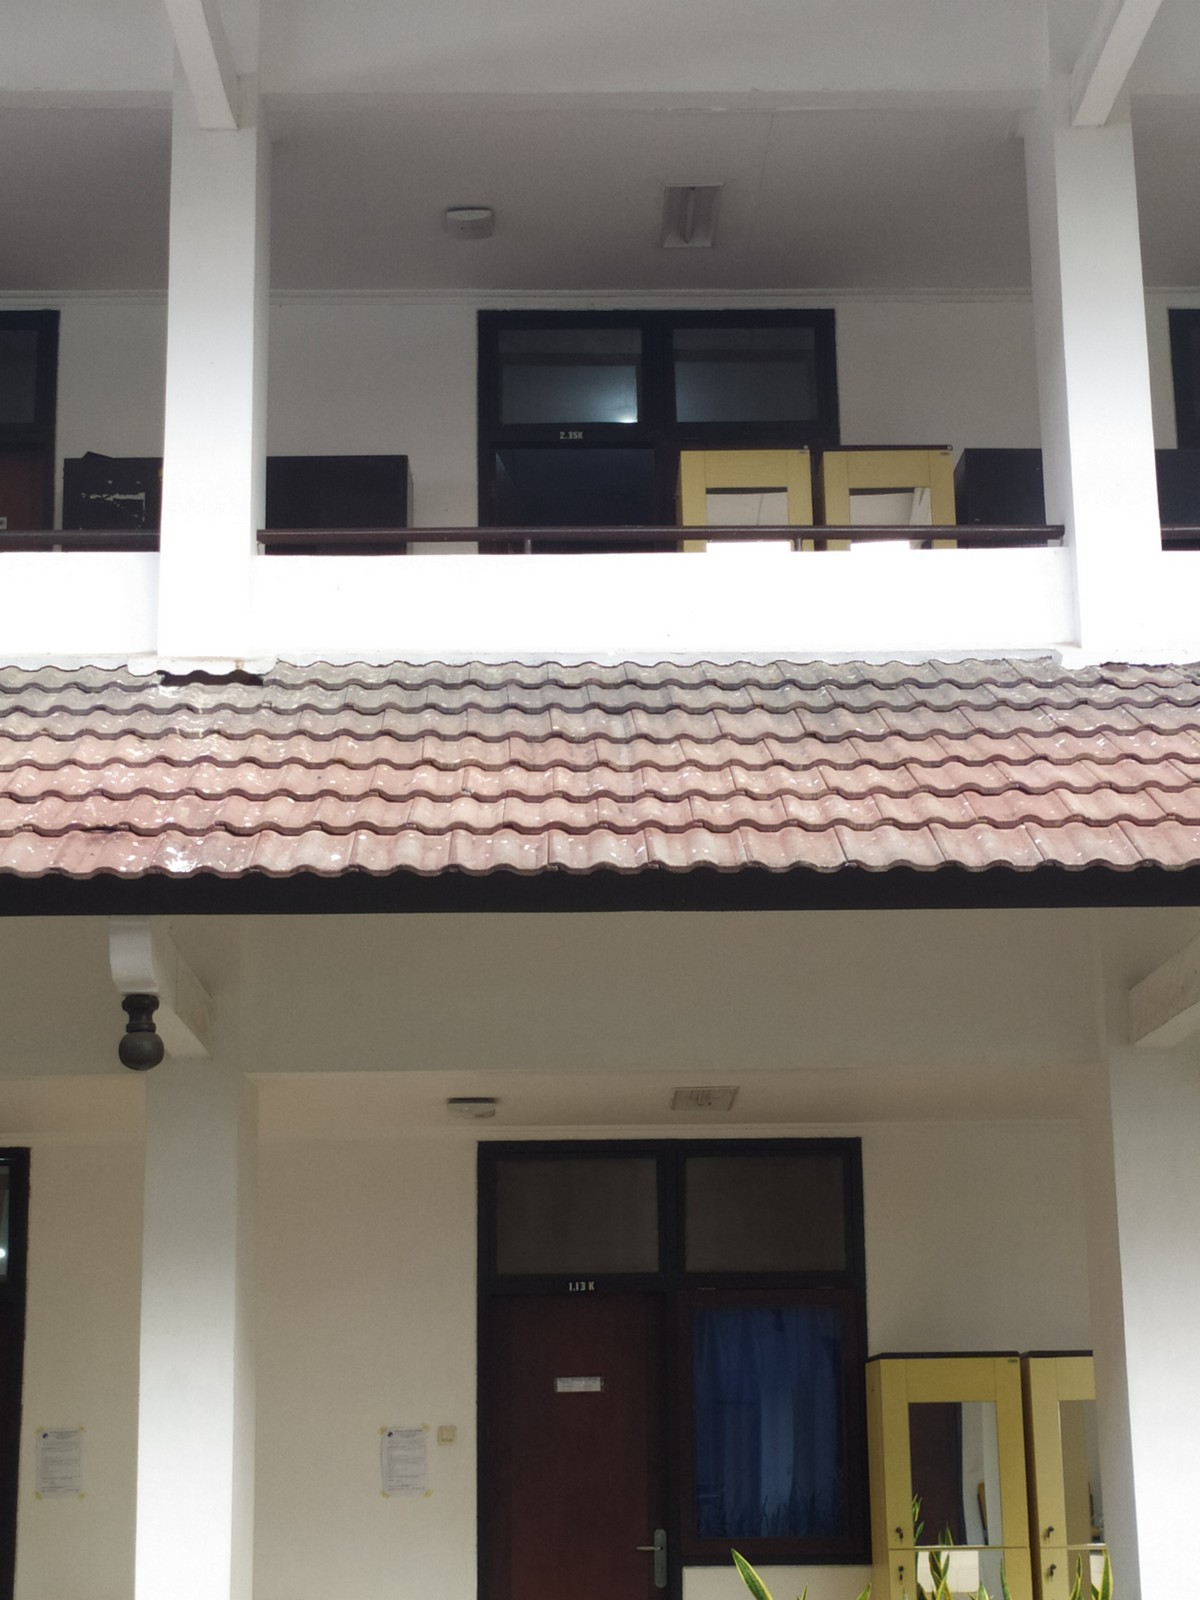concrete beam: (154, 8, 256, 134), (1068, 8, 1156, 144), (1117, 922, 1197, 1063), (149, 931, 223, 1072)
concrete column: (1015, 43, 1187, 666), (142, 39, 292, 684), (129, 1049, 270, 1596)
